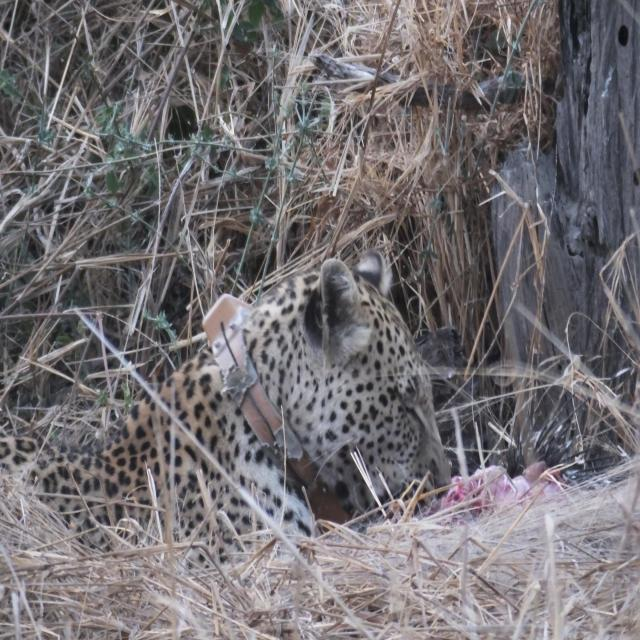Leopard: (2, 244, 459, 570)
